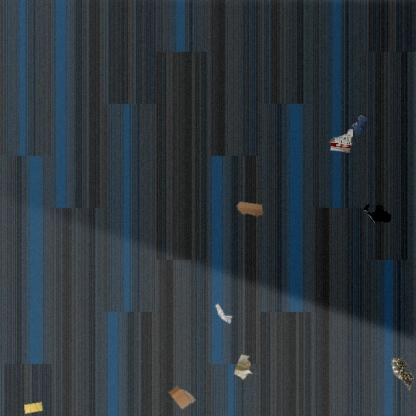dirty: (390, 355, 416, 390), (167, 384, 197, 412), (328, 127, 353, 153), (232, 353, 254, 381), (235, 200, 265, 218), (214, 302, 234, 324), (23, 400, 45, 416)
liquid: (362, 203, 393, 225), (351, 114, 367, 136)
